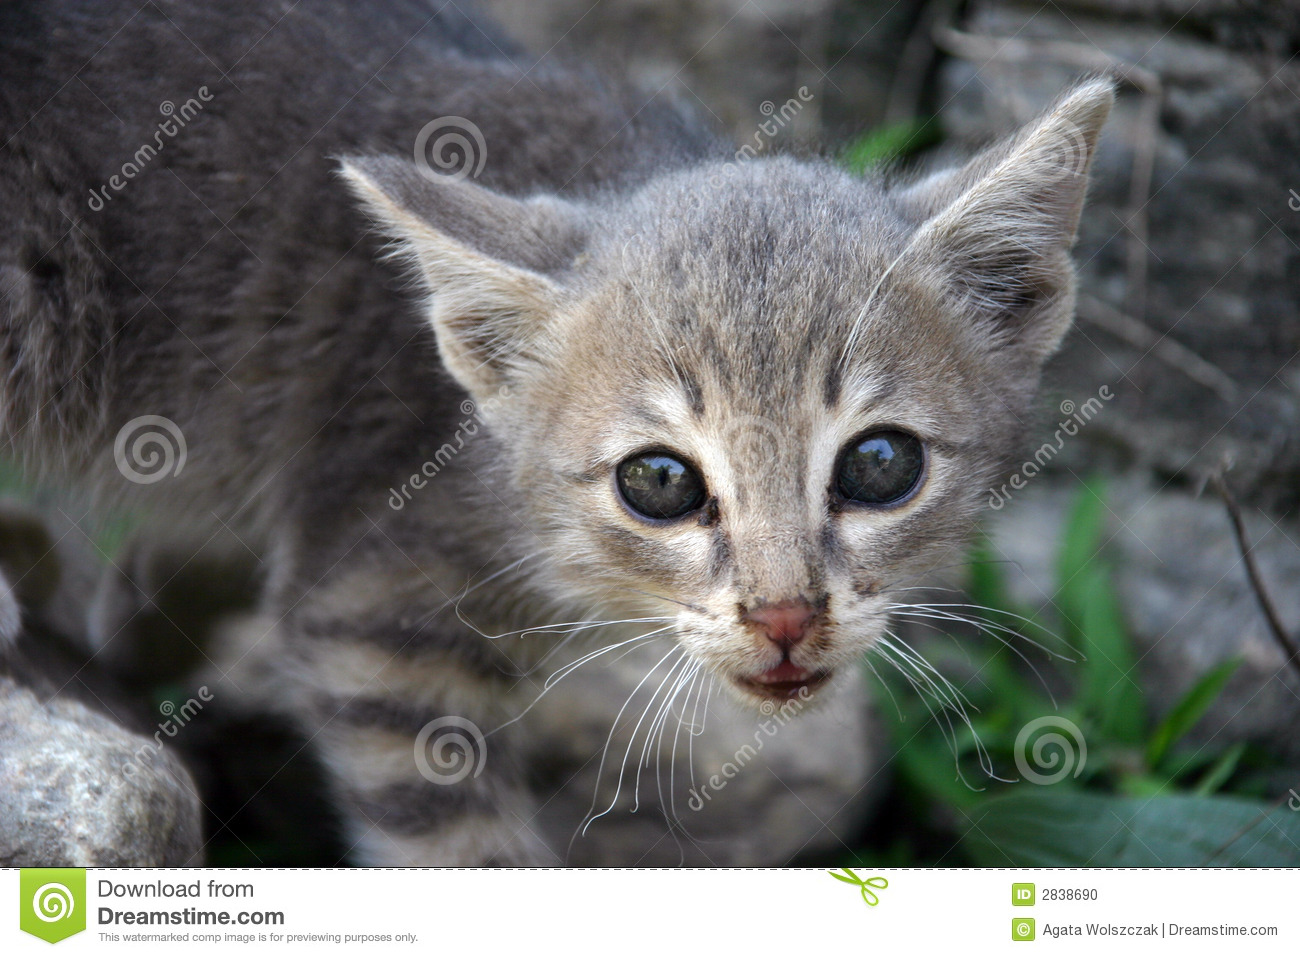cat: (1, 1, 1140, 869)
